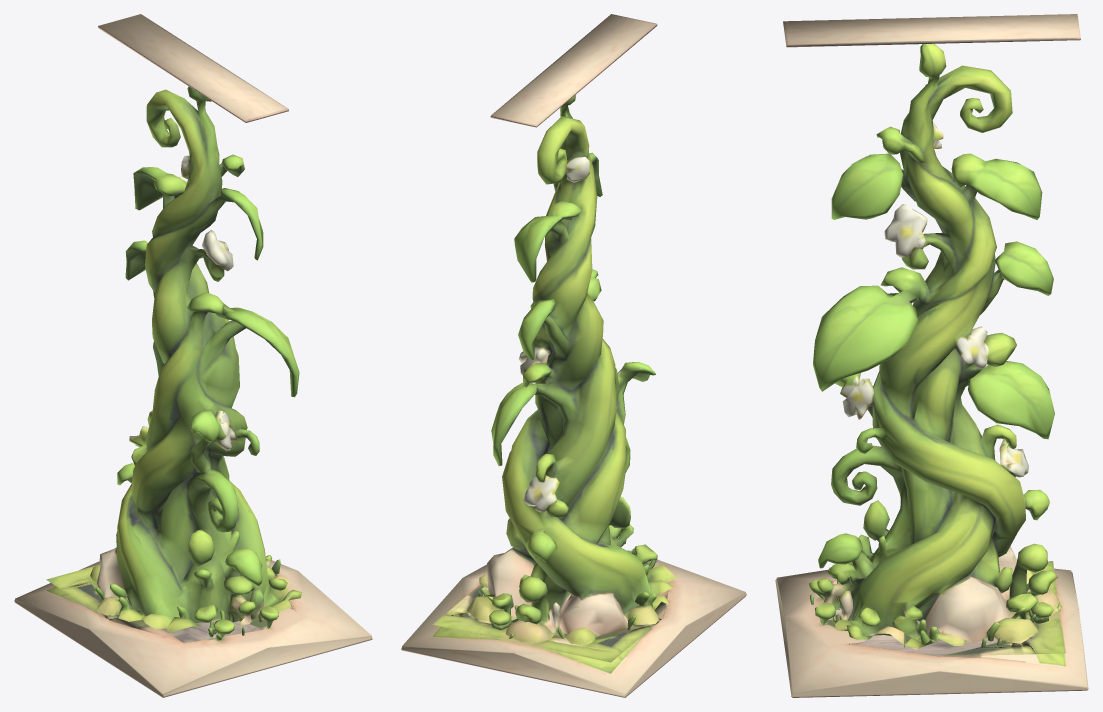
3 renders of one model, left to right at view 1: azimuth 30°, elevation 25°; view 2: azimuth 150°, elevation 25°; view 3: azimuth 270°, elevation 25°, orthographic. The views are drawn at different scales.
Visible parts, largest first — view 1: tripo_node_753697d9-523b-4e47-ac5a-0f7d0041ecb4; view 2: tripo_node_753697d9-523b-4e47-ac5a-0f7d0041ecb4; view 3: tripo_node_753697d9-523b-4e47-ac5a-0f7d0041ecb4.
Boxes of the visible parts, bbox=[...] form: tripo_node_753697d9-523b-4e47-ac5a-0f7d0041ecb4: bbox=[14, 14, 372, 697]; tripo_node_753697d9-523b-4e47-ac5a-0f7d0041ecb4: bbox=[401, 14, 746, 697]; tripo_node_753697d9-523b-4e47-ac5a-0f7d0041ecb4: bbox=[775, 14, 1088, 697].
Size of the model in its own units: 0.4343 by 1 by 0.4674.
Materials: 1 (1 with a texture image).
